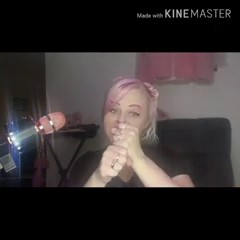G: (98, 119, 142, 180)
